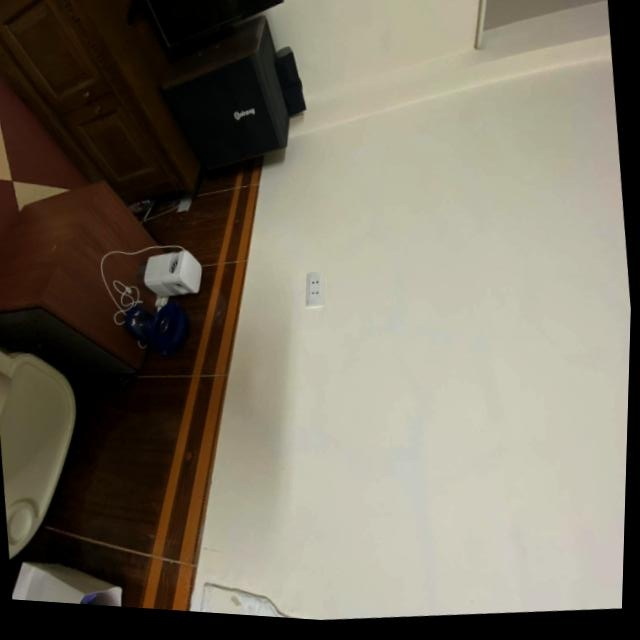outlet: (303, 269, 328, 308)
